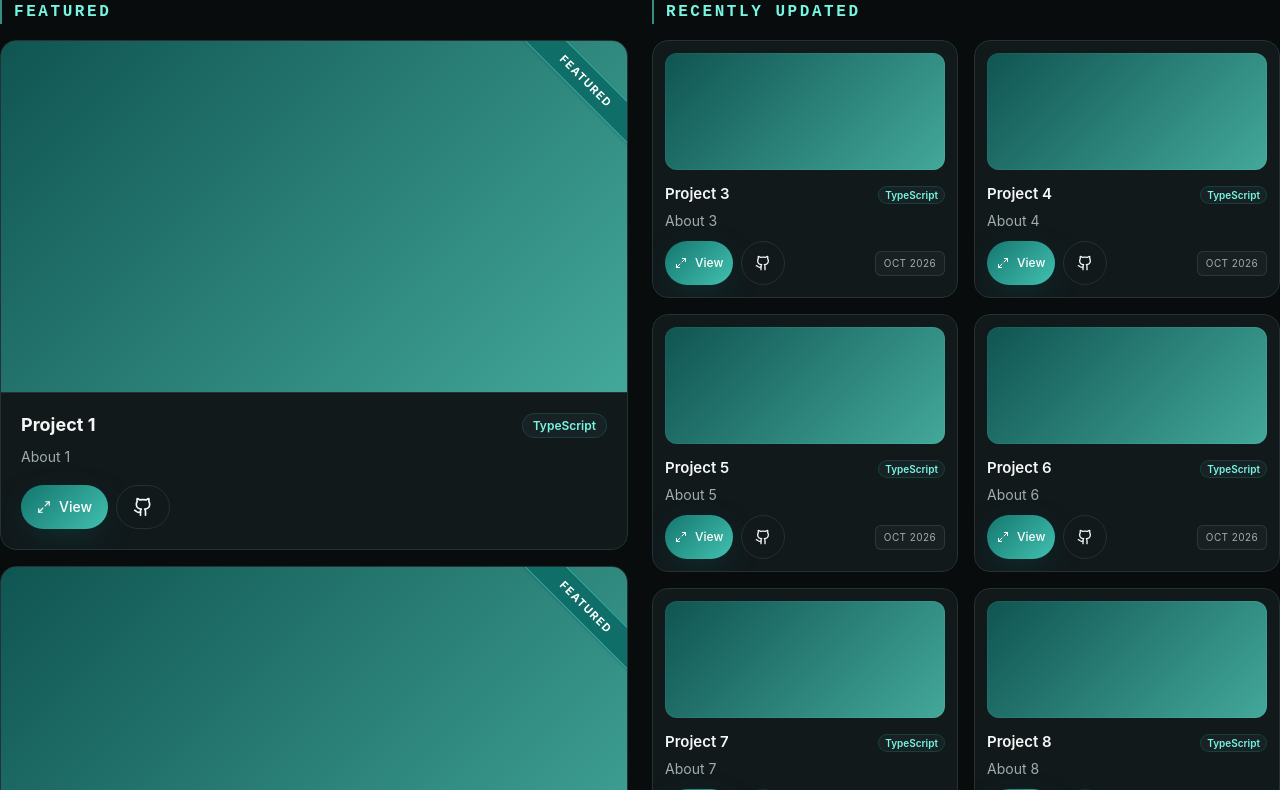
it: ProjectsBrowser categories and responsive limits › opens Quick View from project 1 and closes it without hiding its card
Click the button with aria-label "View Project" at (65,507), box [21,485,108,529]
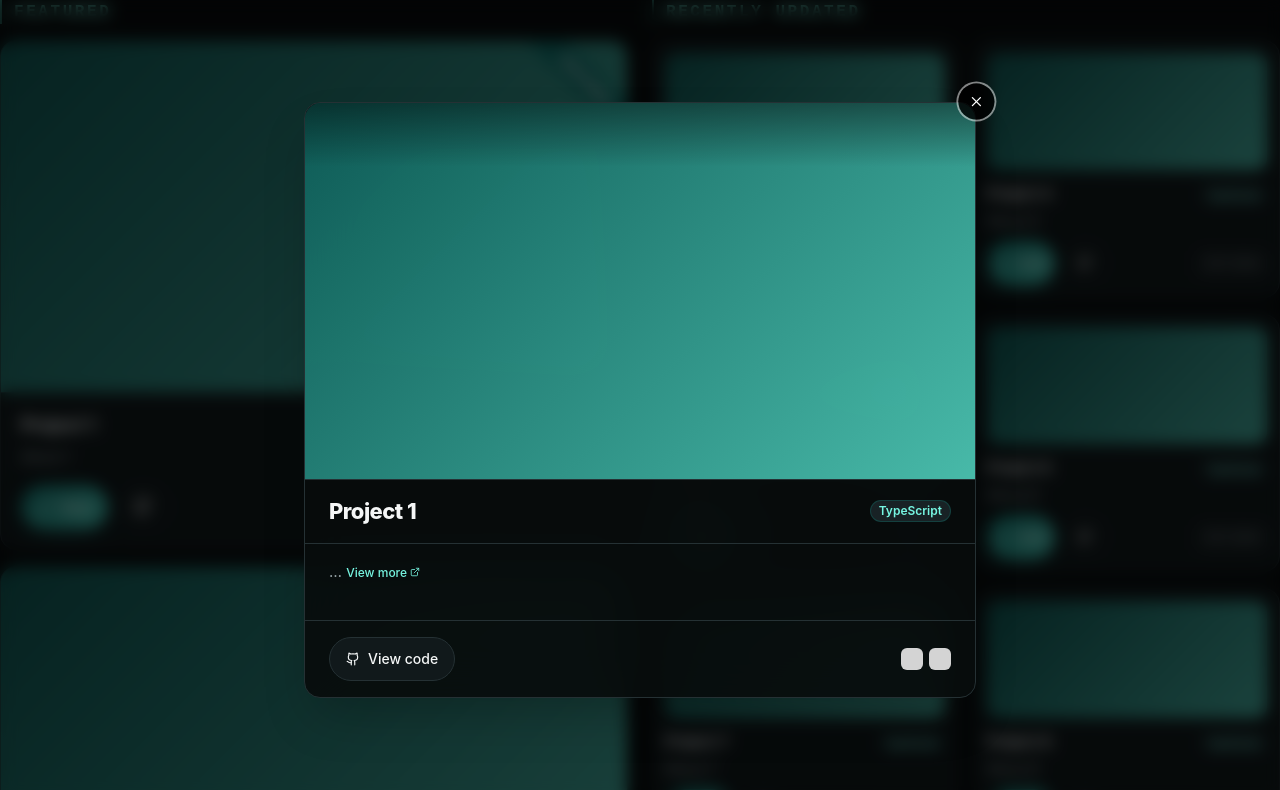
Check: the dialog "Project 1" is shown, box [304,102,976,698]
Click the button named "Close" at (976,102), box [958,84,994,120]
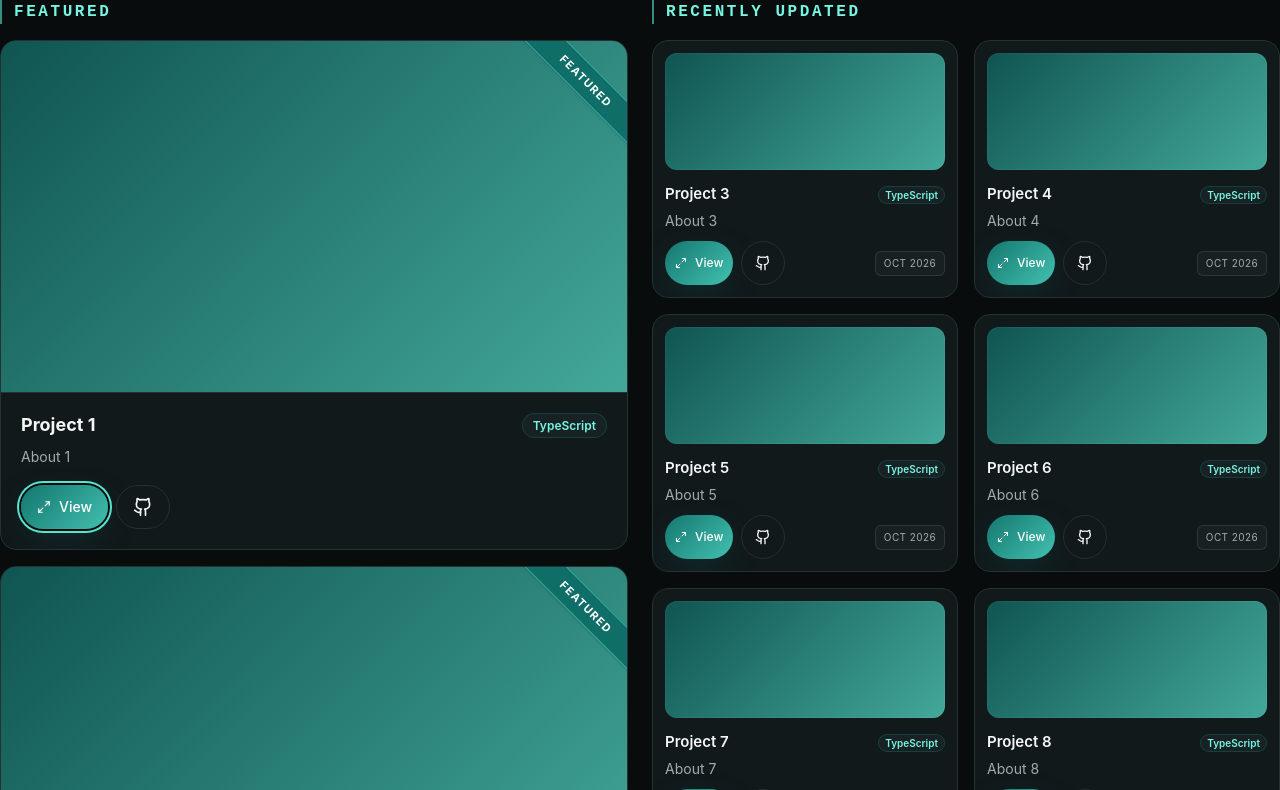
Check: the element "Project 1" is shown, box [0,40,628,550]
Check: the dialog is gone
Click the button with aria-label "View Project" at (65,507), box [21,485,108,529]
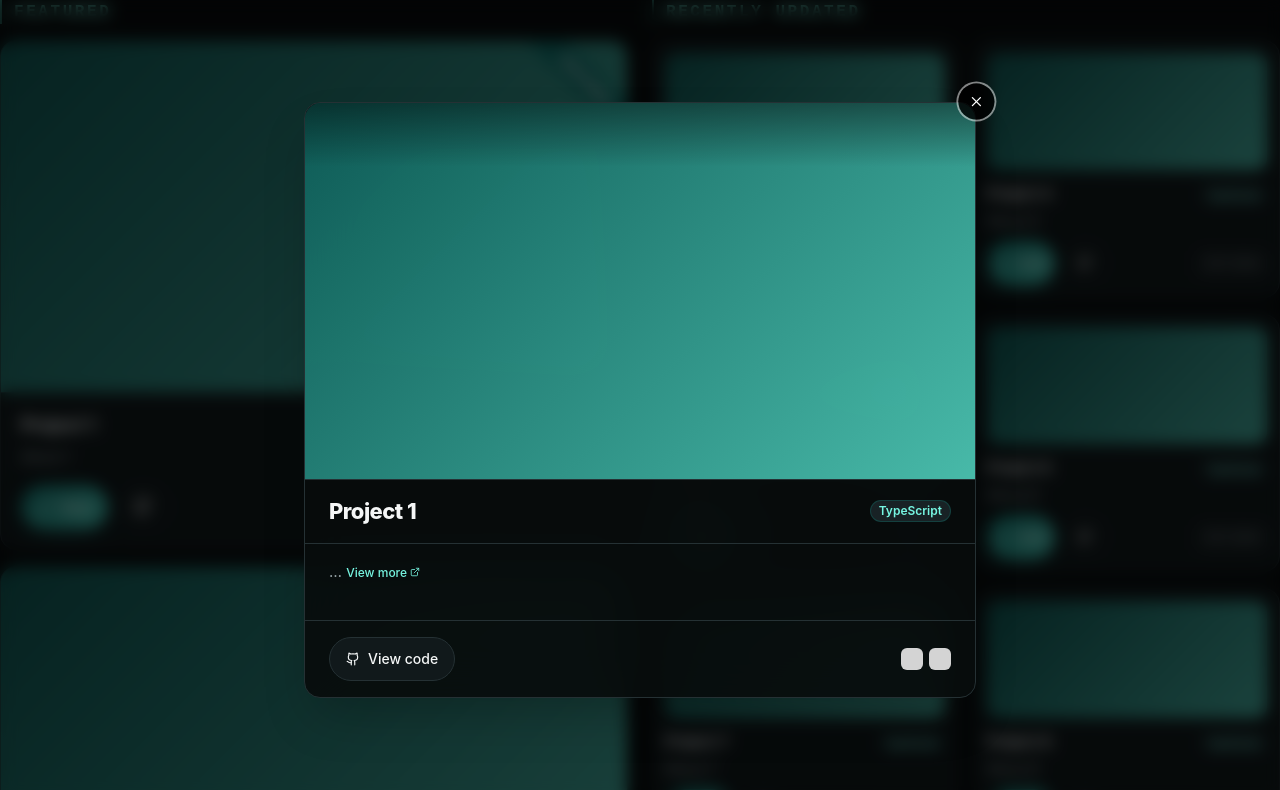
Check: the dialog "Project 1" is shown, box [304,102,976,698]
Press Escape in the button, box [958,84,994,120]
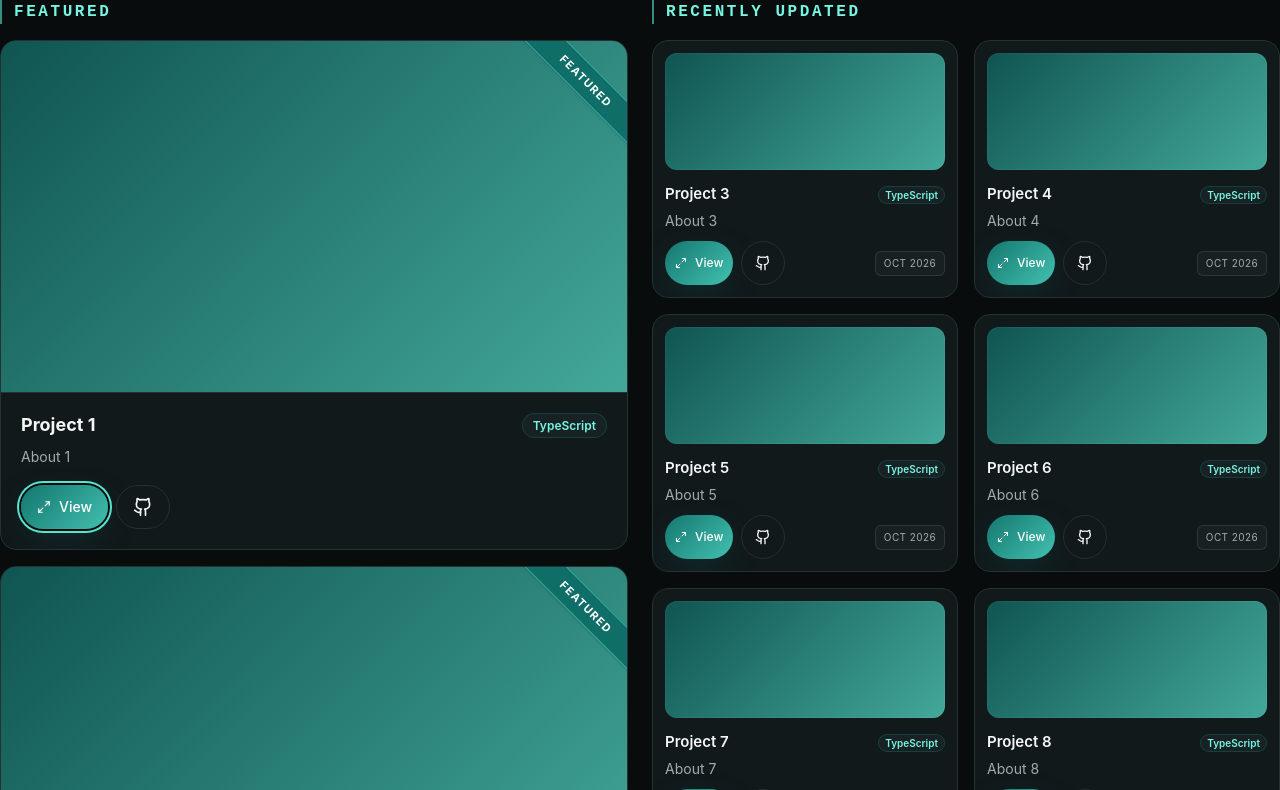
Check: the dialog is gone
